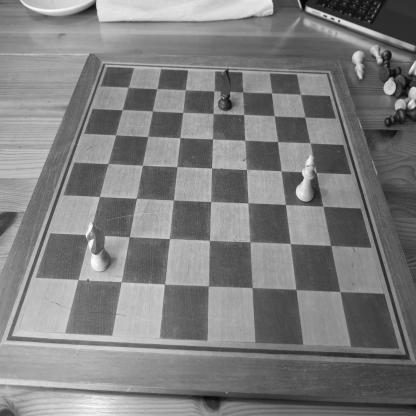black-knight: (218, 68, 232, 112)
black-pawn: (384, 108, 406, 128)
white-bishop: (295, 154, 316, 203), (351, 50, 366, 81)
white-knight: (85, 221, 111, 273)
white-pawn: (369, 44, 384, 66)
